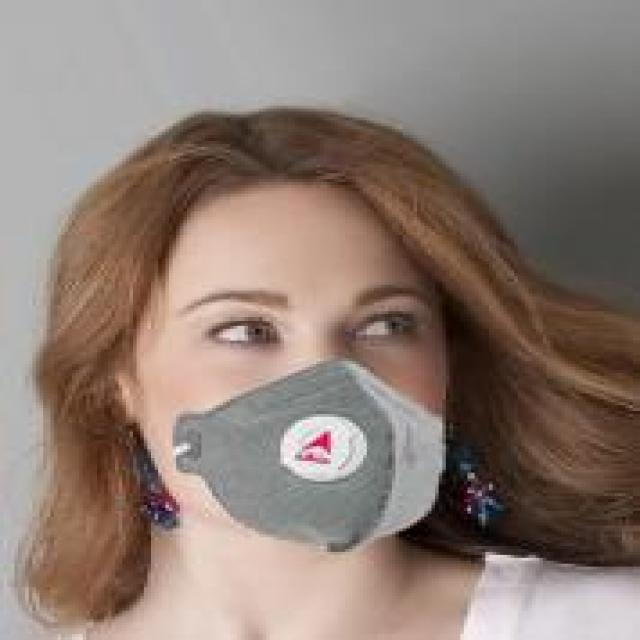mask: (86, 67, 532, 552)
